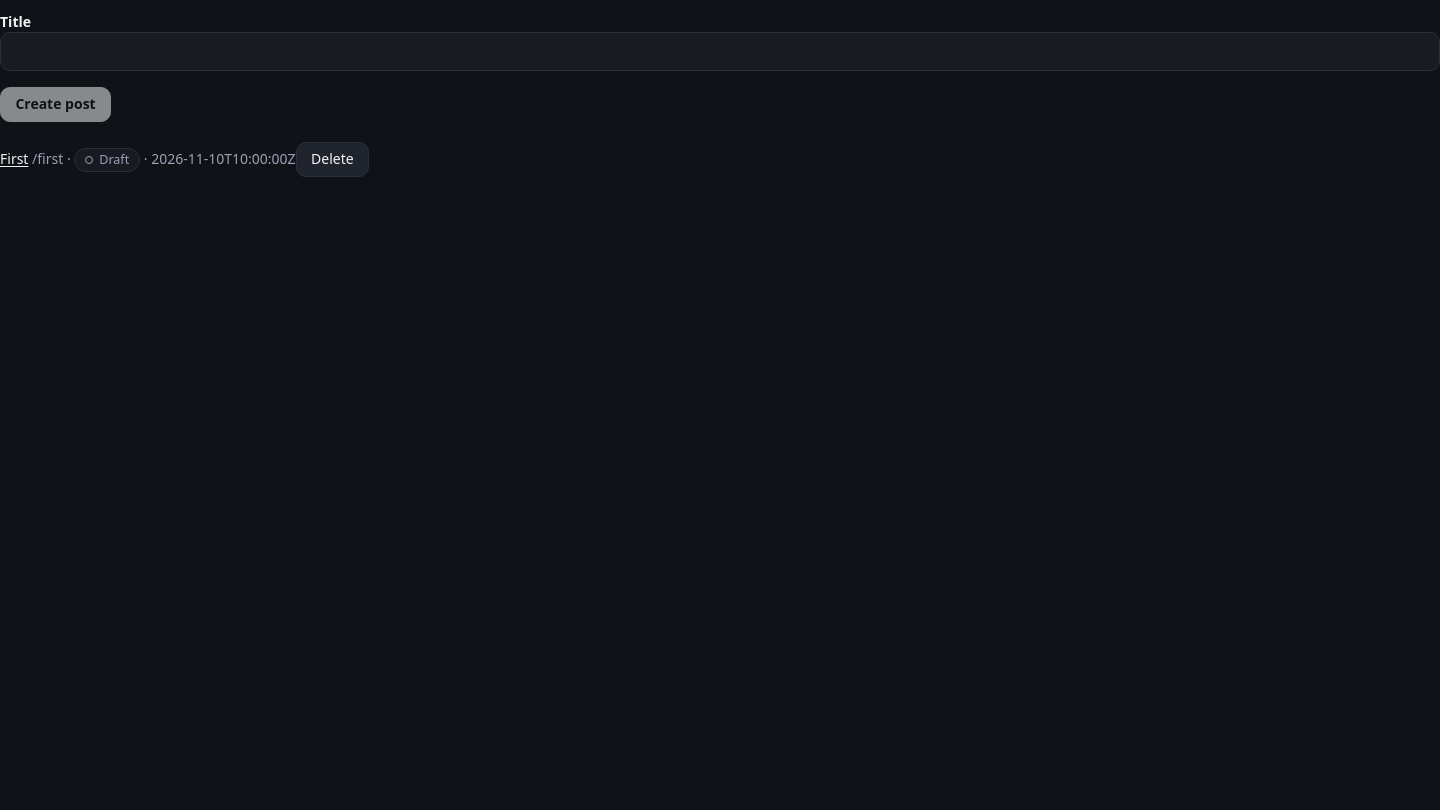
it: another 409 shows an error and never opens the post dialog
This screenshot has width=1440, height=810.
Click the button with aria-label "Delete First". click: (332, 159)
box: [296,142,369,177]
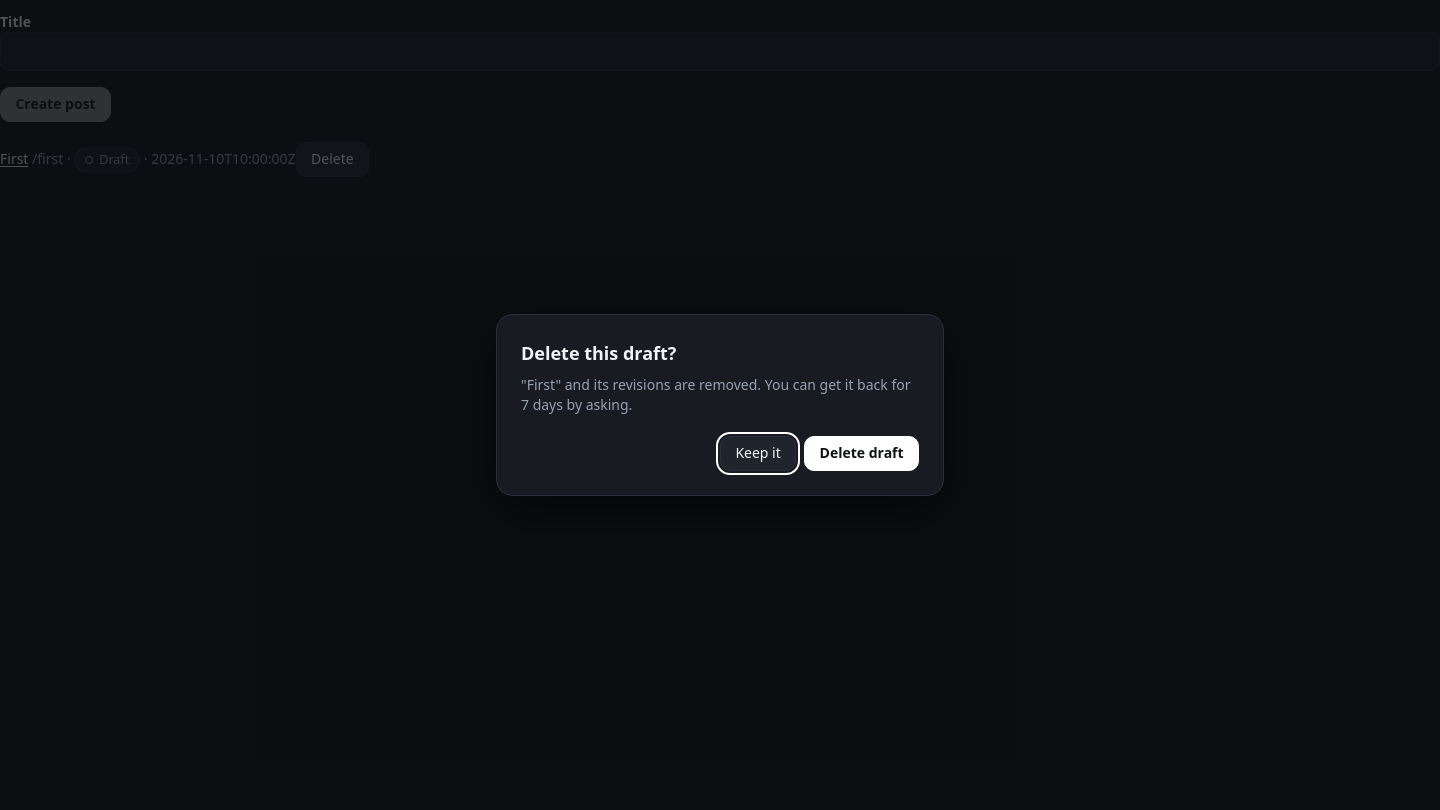
Click the button "Delete draft". click: (862, 453)
box: [804,436,919,471]
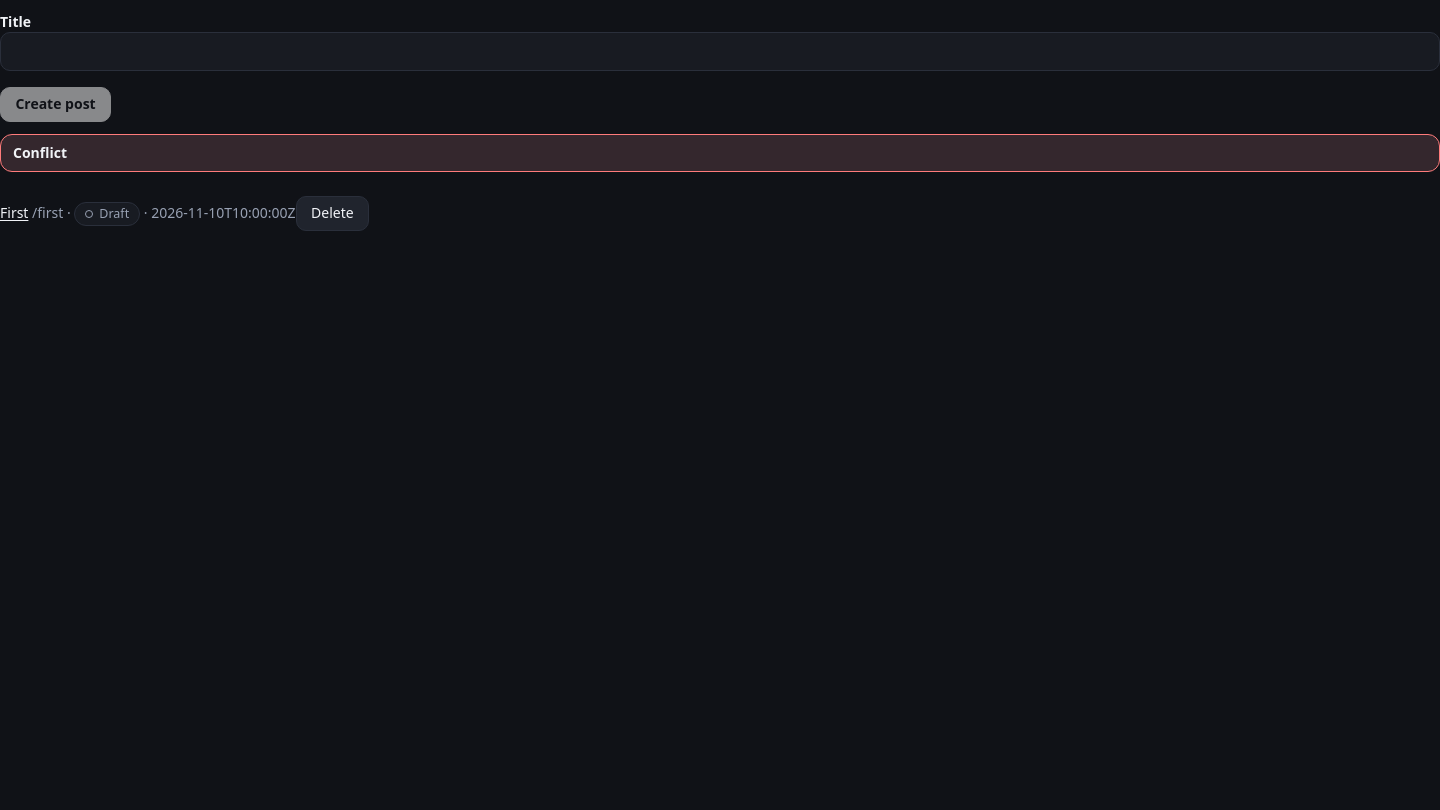
Expected: the link "First" is shown, [0,203,28,222]
Expected: the message "Conflict" is shown, [0,134,1439,172]
Expected: the dialog is gone
